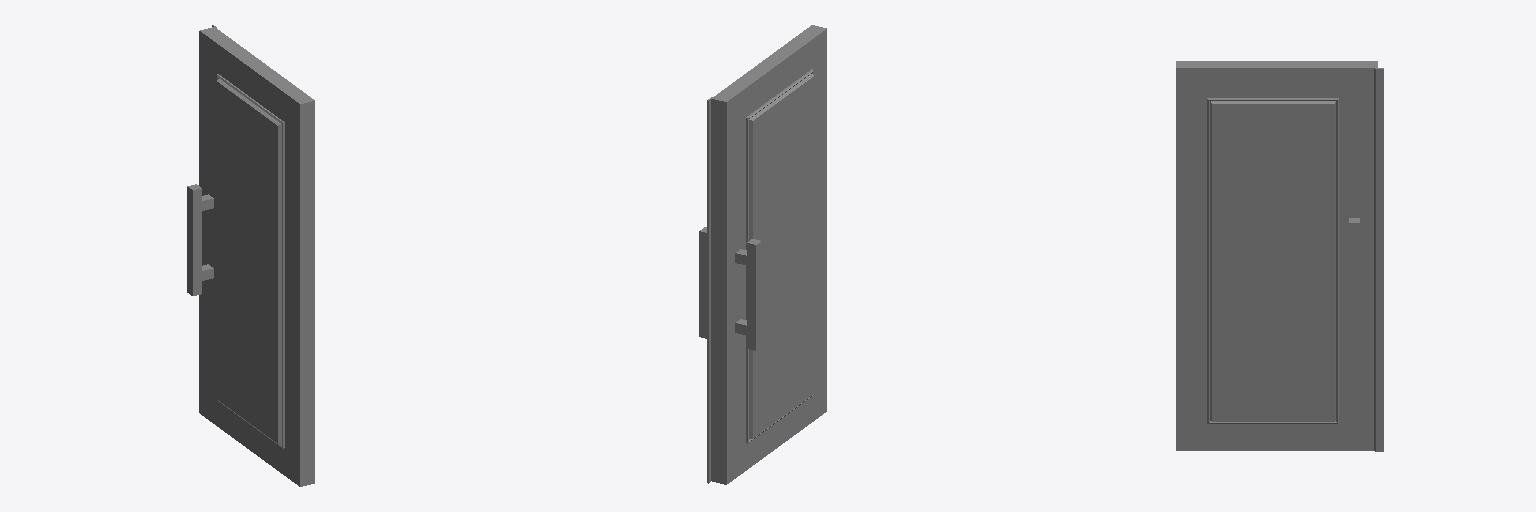
Rendered from sound_door.obj.
The picture shows the model from 3 angles: view 1: azimuth 30°, elevation 25°; view 2: azimuth 150°, elevation 25°; view 3: azimuth 270°, elevation 25°; orthographic projection.
Visible parts, largest first — view 1: ???; view 2: ???; view 3: ???.
Part boxes in pixels (x1,y1,x2,y2): ???: (187, 25, 314, 486); ???: (699, 25, 826, 484); ???: (1176, 61, 1383, 451).
Size of the model in its own units: 0.4028 by 2.58 by 1.27.